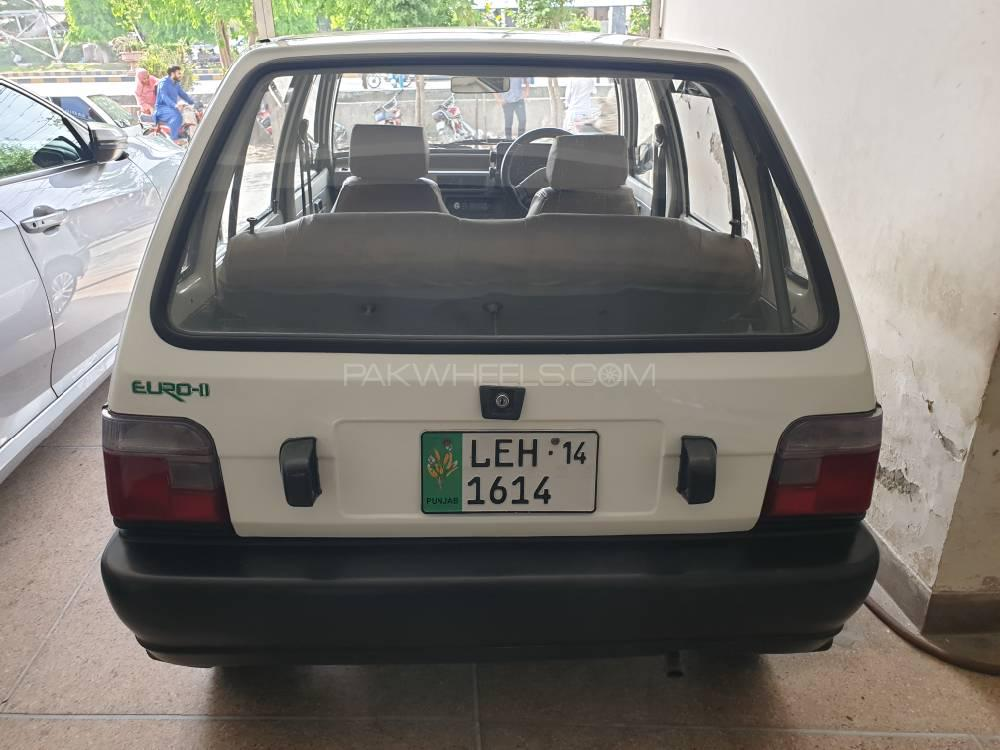license plate: (418, 430, 601, 517)
